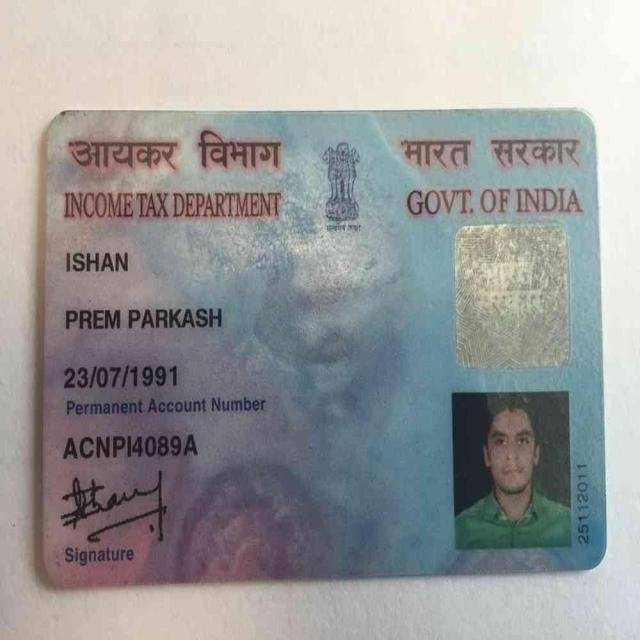pan_card: (49, 114, 599, 582)
